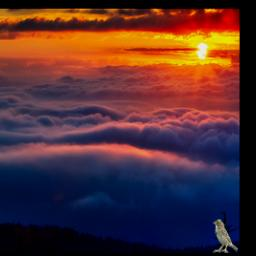Sparrow: (213, 219, 238, 253)
